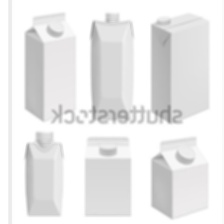carton: (141, 10, 214, 126), (16, 7, 81, 124), (79, 8, 136, 127), (142, 133, 211, 218), (77, 132, 134, 219), (16, 128, 66, 220)
